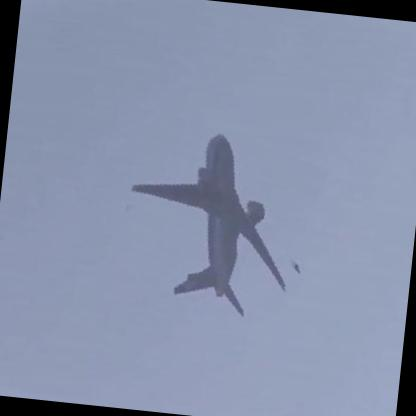plane: (105, 114, 324, 329)
